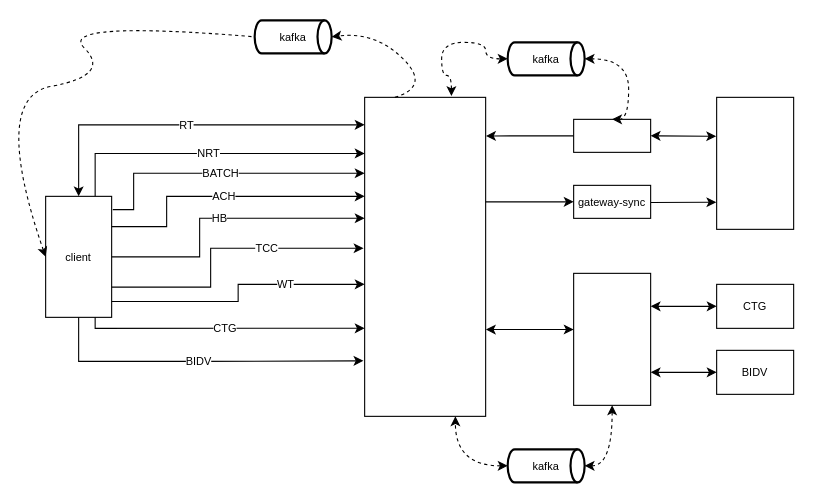
Image size: 814x502. Some labels were removed from this diagram. Each missing label, with the box of its shape:
gateway-async: (573, 118, 651, 152)
h2h: (364, 96, 486, 416)
isocias: (573, 272, 651, 405)
TCB: (716, 96, 794, 229)
